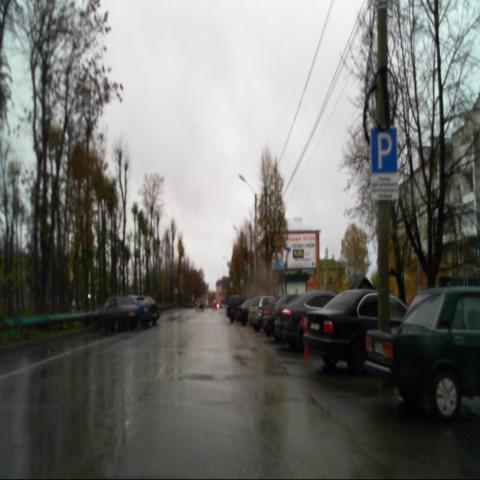6_4: (370, 128, 398, 173)
